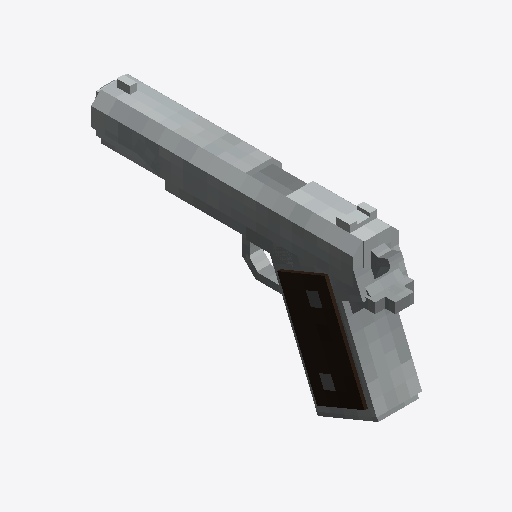
Isometric view (azimuth 45°, elevation 35.3°) of a Minecraft model made of 50 cuboids, textured from the same repository.
Parts seen in each view (by area): element 5, handle, element 33, element 32, element 35, element 36, element 46, element 2, middle, element 1, element 10, element 11.
Boxes of the visible parts, box(x1,y1,x2,y2) form: element 5: box(268, 246, 421, 417); handle: box(277, 269, 367, 409); element 33: box(159, 145, 362, 287); element 32: box(91, 90, 362, 262); element 35: box(101, 74, 271, 179); element 36: box(286, 181, 390, 269); element 46: box(91, 106, 158, 165); element 2: box(332, 244, 407, 302); middle: box(252, 164, 306, 195); element 1: box(165, 180, 245, 235); element 10: box(380, 282, 413, 313); element 11: box(349, 268, 403, 313).
Bounding box in the file's own units: 3.88 × 12.98 × 22.06.